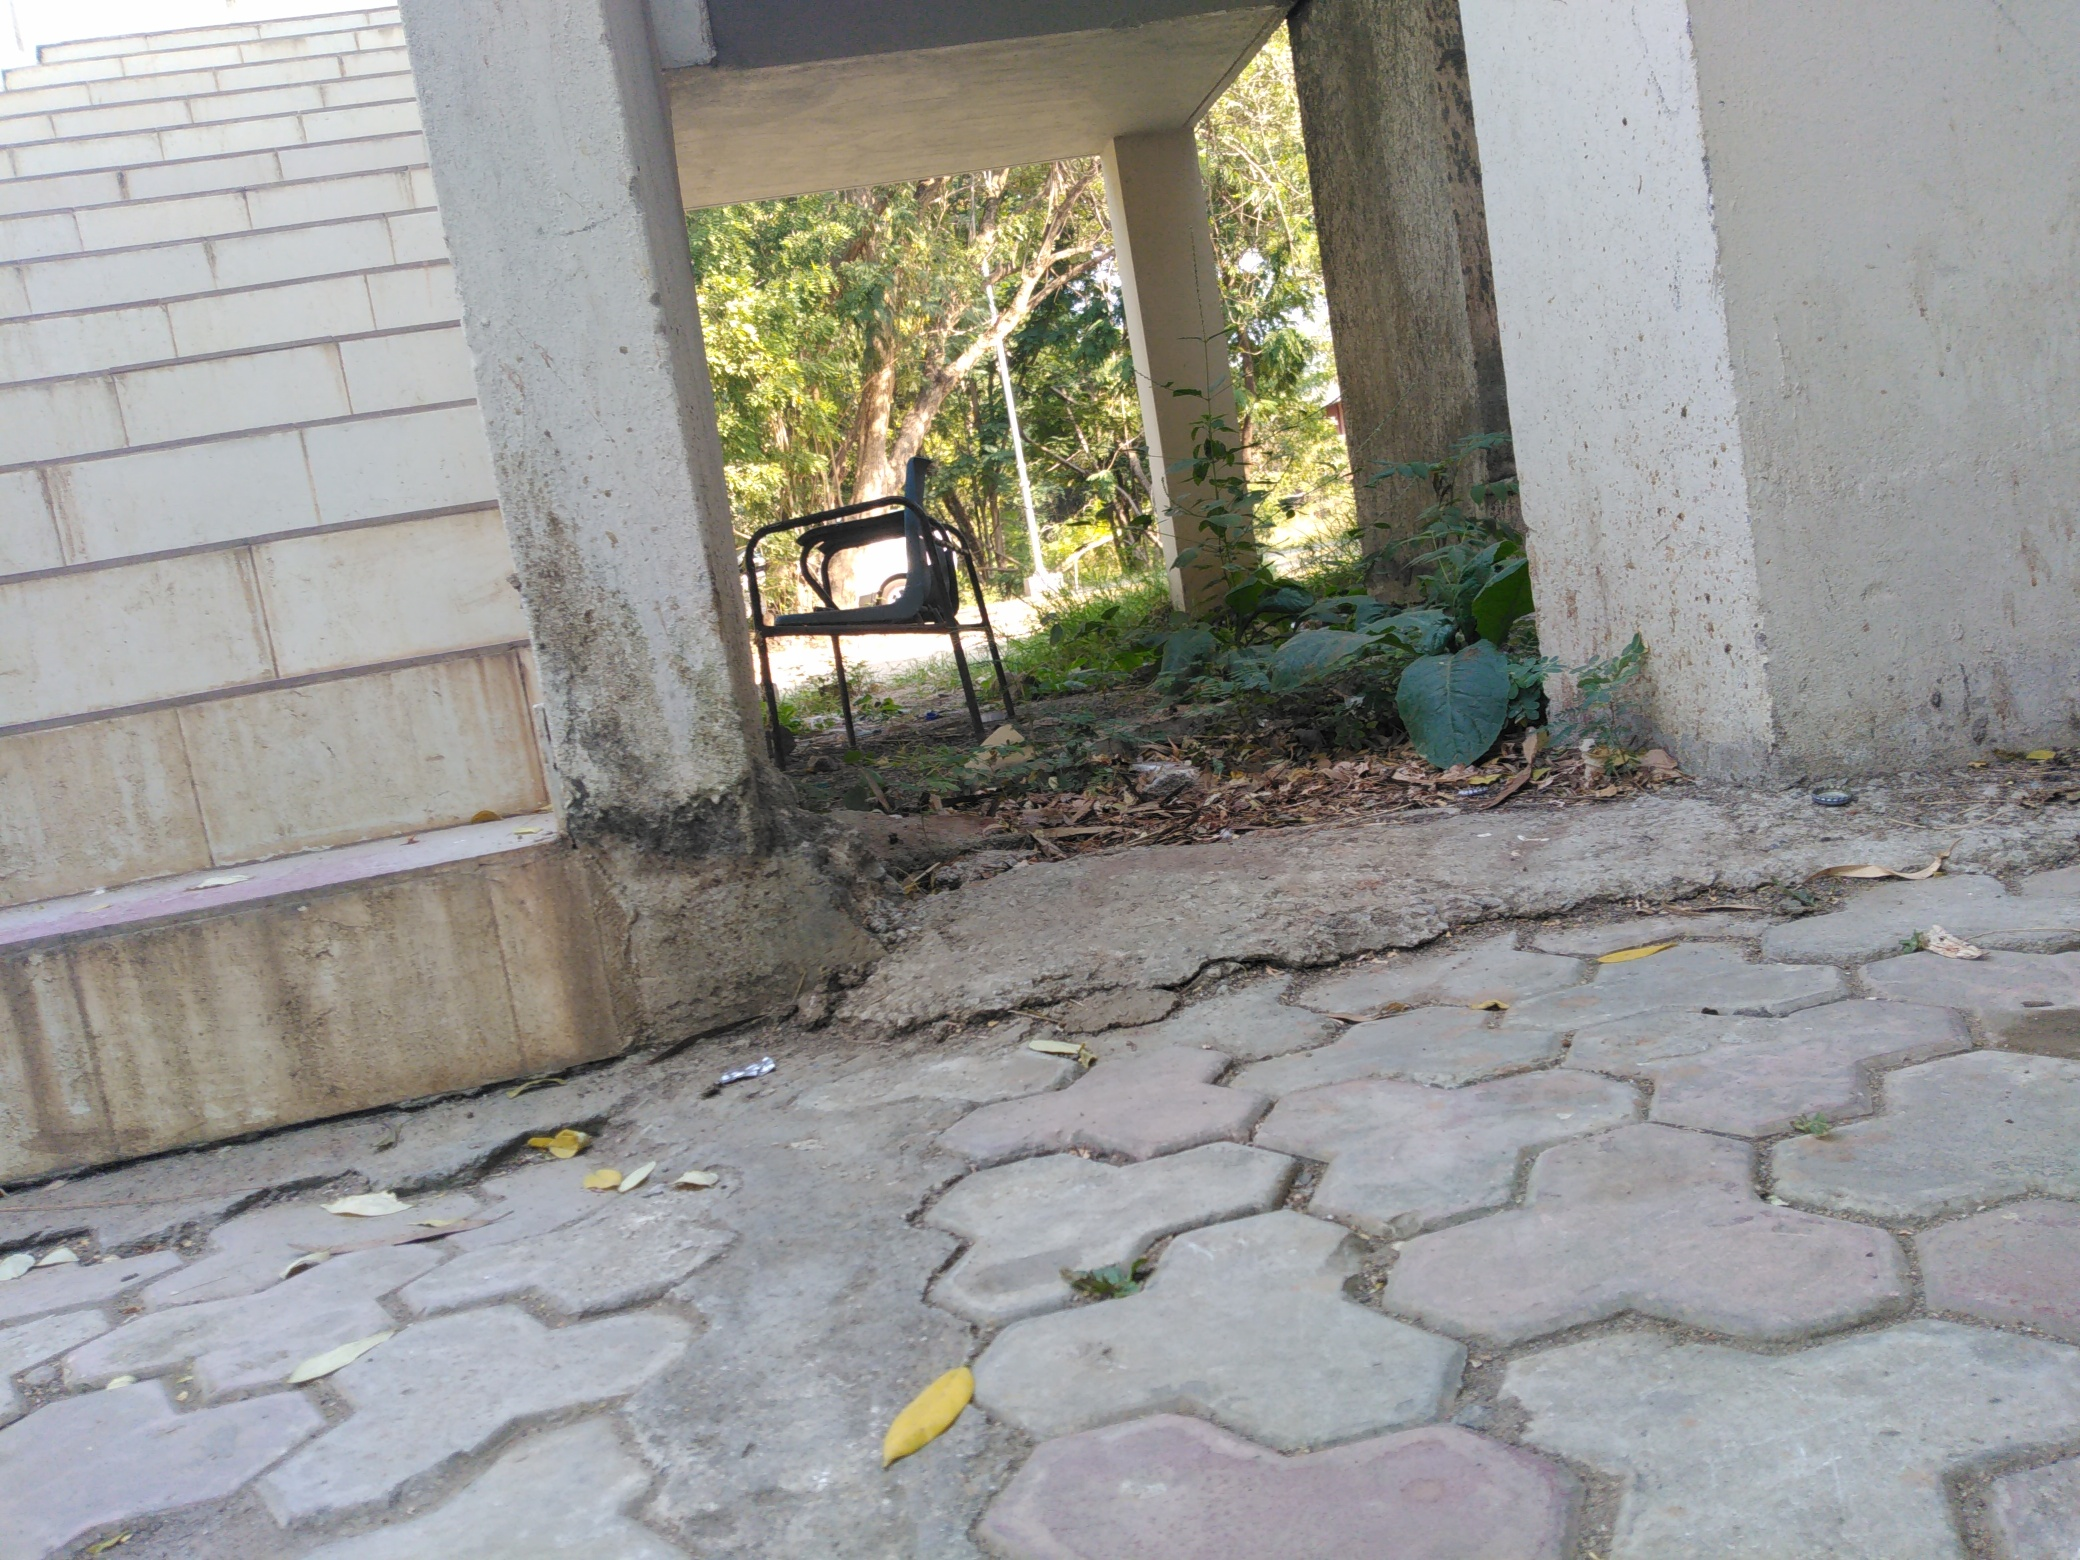stairs_up: (7, 38, 599, 1049)
